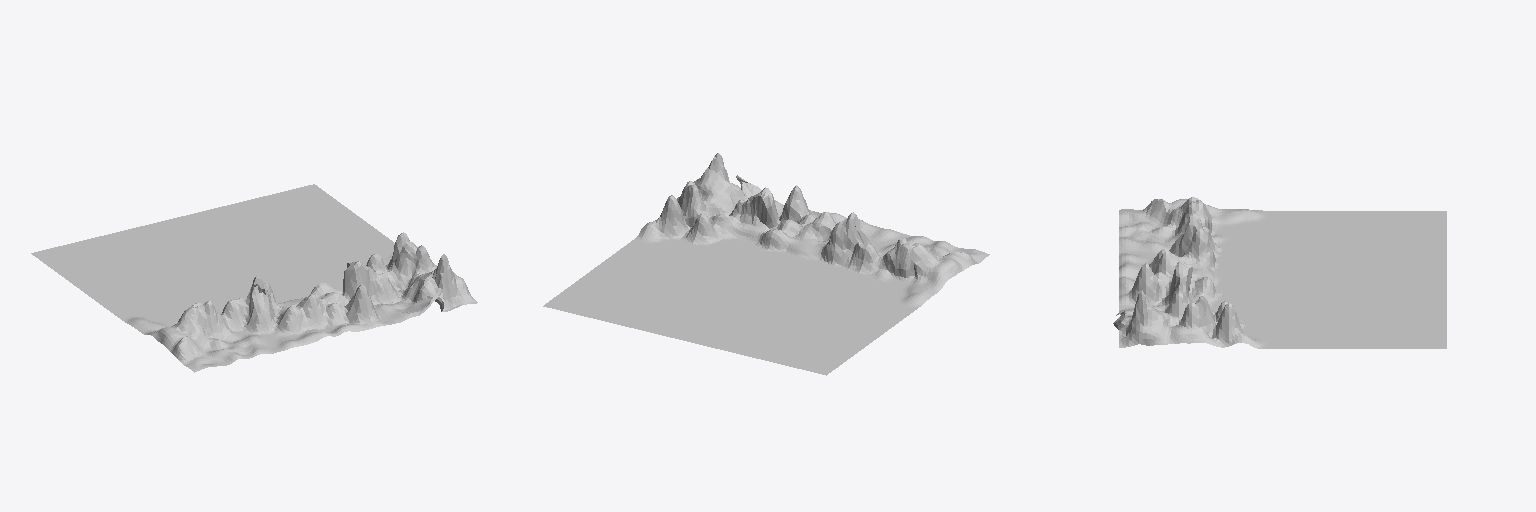
Rendered from scenario.obj.
3 views of the same model, side by side, from view 1: azimuth 30°, elevation 25°; view 2: azimuth 150°, elevation 25°; view 3: azimuth 270°, elevation 25° (orthographic).
Bounding box in the file's own units: 16.3 × 2.61 × 16.41.